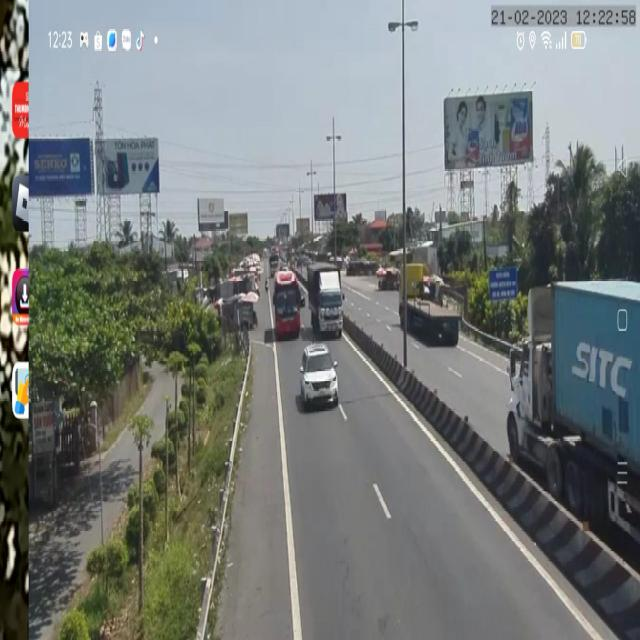bus: (273, 268, 302, 344)
car: (300, 343, 340, 412)
truck: (506, 278, 640, 554), (397, 260, 460, 352), (306, 263, 344, 342)
